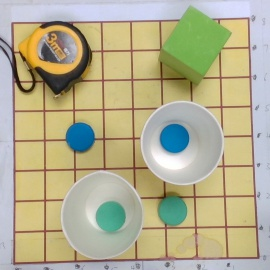blue: (65, 122, 94, 153)
cup_blue: (141, 100, 223, 186)
cup_green: (60, 171, 145, 259)
green: (157, 195, 188, 225)
